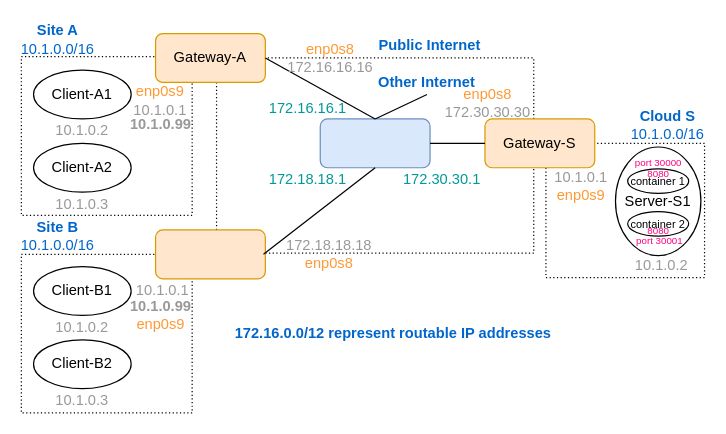
Image size: 726x434. Some labels were removed from this diagram. The shapes that lost their labels are listed below. From the top down, each one's centre as x and y in pixels, then its label:
At point 374,143: "Router".
At point 209,254: "Gateway-B".
